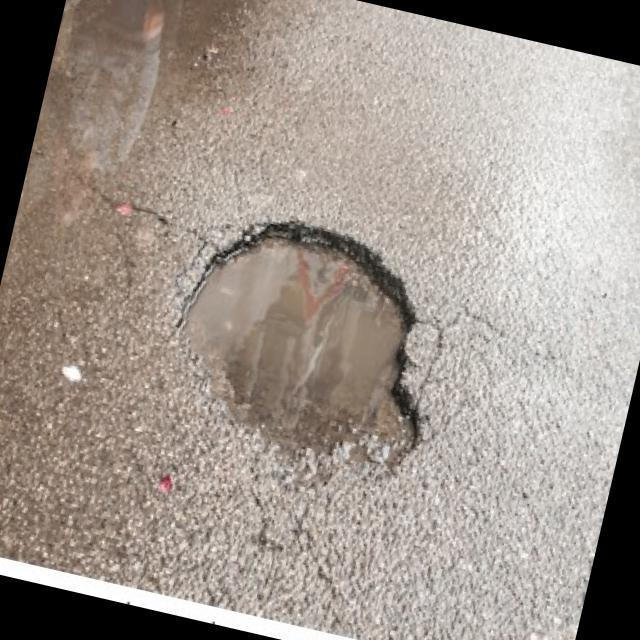Pothole: (142, 195, 468, 500)
